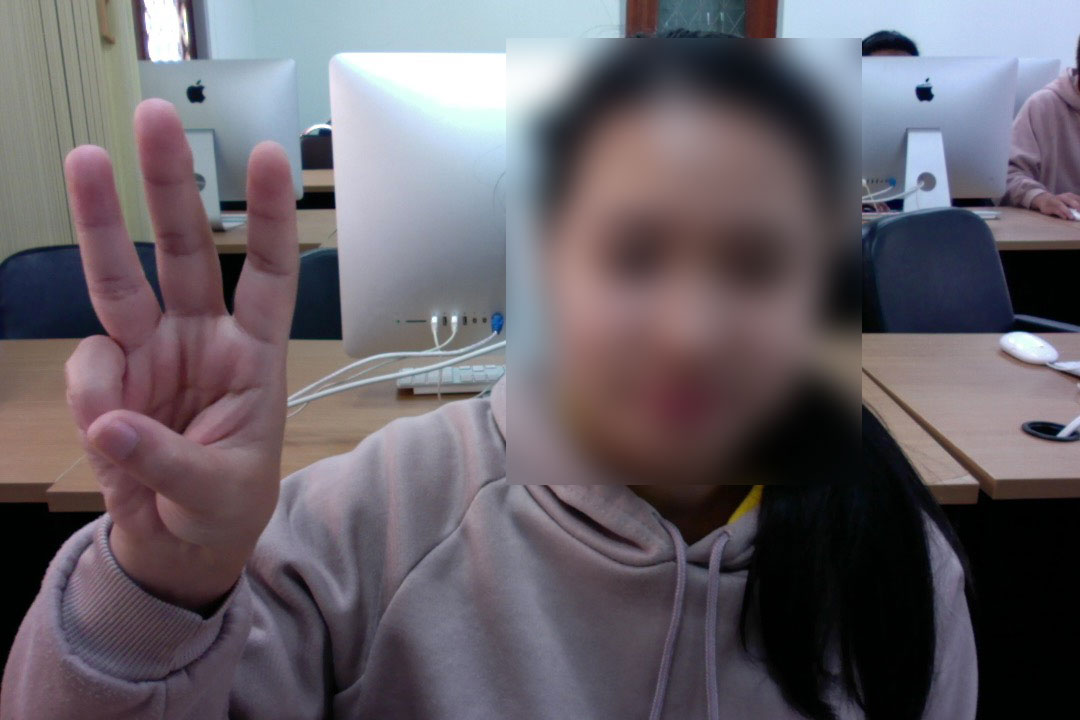wor: (37, 92, 329, 590)
